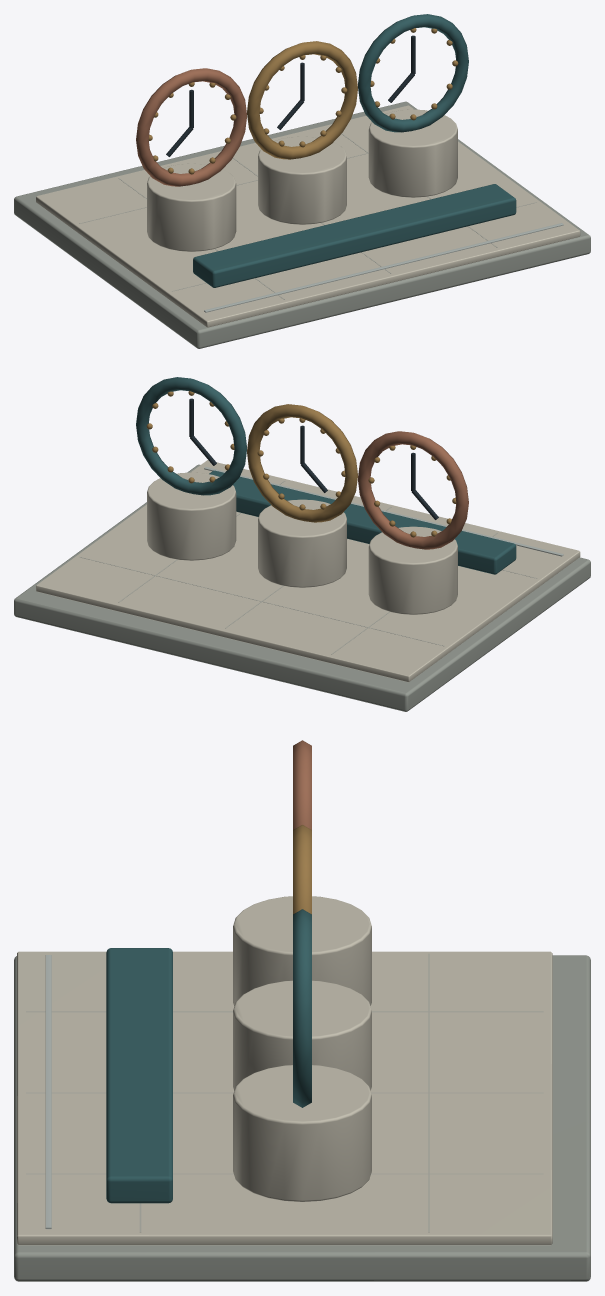
File: idea-a3a97b8a.glb
3 views of the same model, one above another, from view 1: azimuth 30°, elevation 25°; view 2: azimuth 150°, elevation 25°; view 3: azimuth 270°, elevation 25° (orthographic). The views are drawn at different scales.
Visible parts, largest first — view 1: 24-hour Class Simulator; view 2: 24-hour Class Simulator; view 3: 24-hour Class Simulator.
Boxes of the visible parts, x1,y1,x2,y2 form: 24-hour Class Simulator: (14, 14, 590, 348); 24-hour Class Simulator: (14, 377, 590, 711); 24-hour Class Simulator: (14, 740, 590, 1281).
Bounding box in the file's own units: 4.8 × 2.23 × 3.9.
